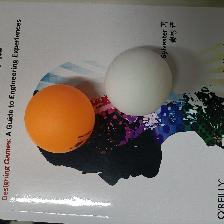WhiteBall: (104, 48, 172, 116)
YellowBall: (23, 83, 94, 153)
